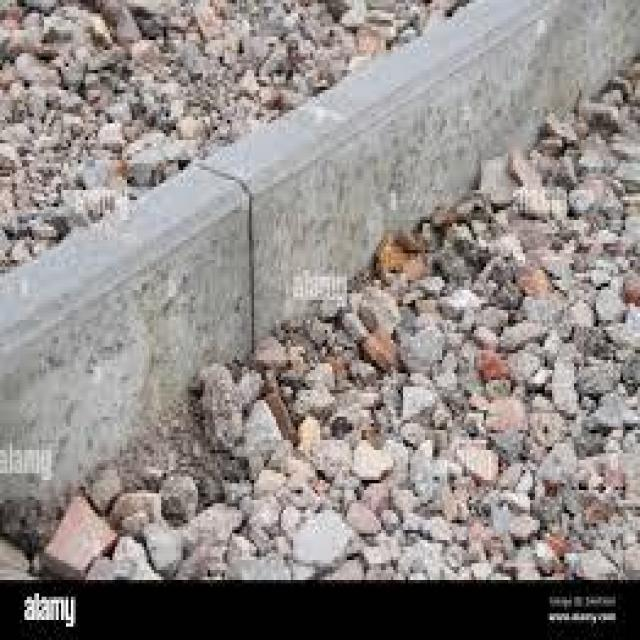curb: (1, 164, 232, 492), (211, 60, 384, 317), (400, 1, 634, 173)
